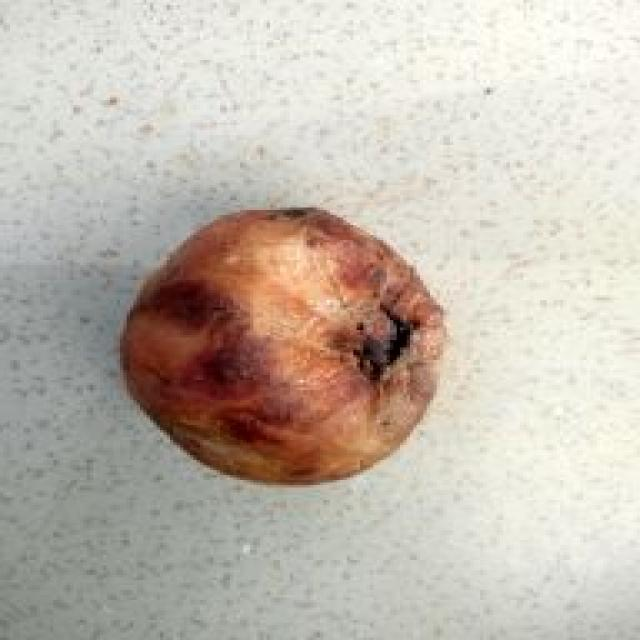Bad_Guava: (122, 208, 443, 483)
